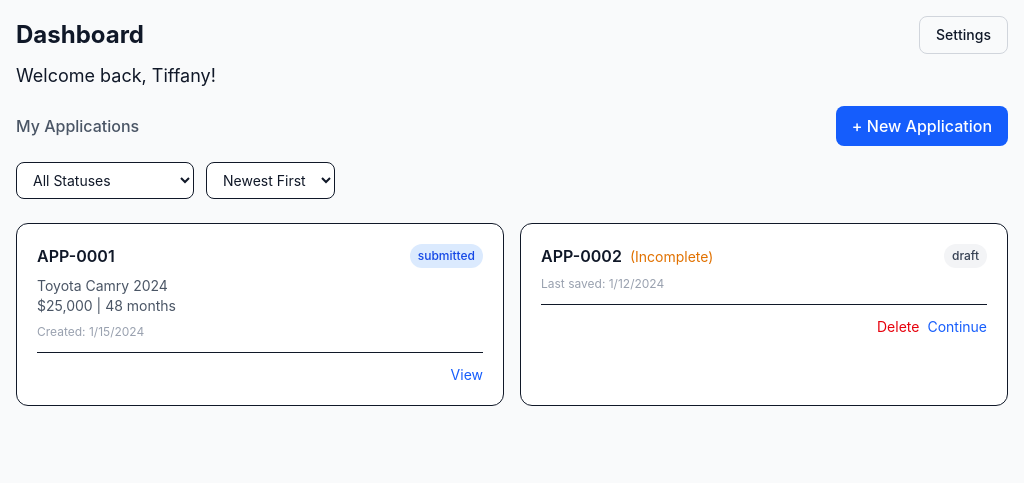
Test: DashboardPage › shows error when delete fails
This screenshot has width=1024, height=483.
Click the button with test id "delete-btn": (898, 327) [877,317,919,337]
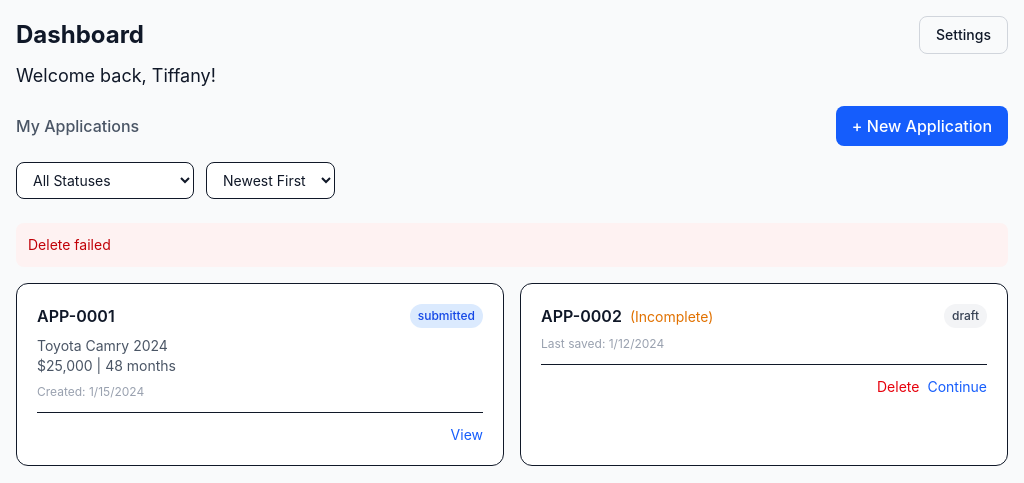
Now the message reads "Delete failed", box [28,236,111,253]
